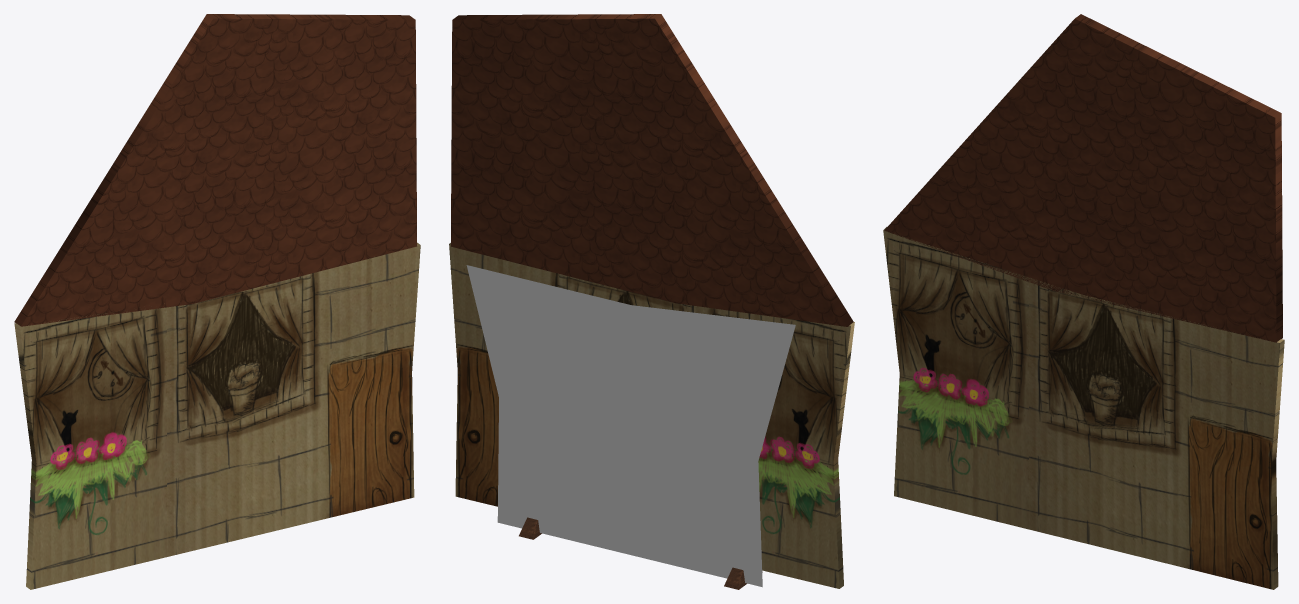
Rendered from house-3.fbx.
The picture shows the model from 3 angles, left to right: view 1: azimuth 30°, elevation 25°; view 2: azimuth 150°, elevation 25°; view 3: azimuth 330°, elevation 25°; orthographic projection.
Visible parts, largest first — view 1: Cap_1_2, Cap_1, Loft_1, Loft; view 2: Cap_2, Plane_1, Cap_2_2, Loft_1, Loft; view 3: Cap_1_2, Cap_1, Loft_1, Loft.
Part boxes in pixels (x1,y1,x2,y2): Cap_1_2: (20,245,420,589); Cap_1: (21,18,416,326); Loft_1: (14,14,415,326); Loft: (14,242,420,589); Cap_2: (451,18,847,326); Plane_1: (466,265,795,587); Cap_2_2: (449,244,850,588); Loft_1: (452,14,853,326); Loft: (449,243,854,588); Cap_1_2: (883,230,1279,589); Cap_1: (884,19,1276,342); Loft_1: (1075,14,1282,341); Loft: (883,226,1284,589).
Size of the model in its own units: 673 by 847 by 82.65.
Materials: 5 (5 with a texture image).
